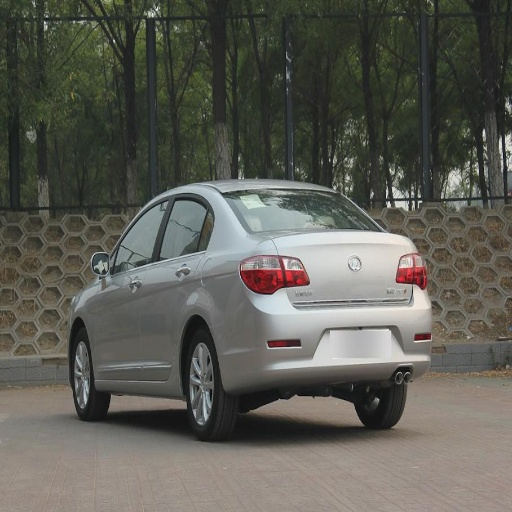back_bumper: (216, 285, 429, 395)
back_glass: (224, 188, 376, 231)
back_left_door: (141, 193, 210, 381)
tailgate: (272, 230, 403, 304)
trunk: (281, 240, 412, 327)
